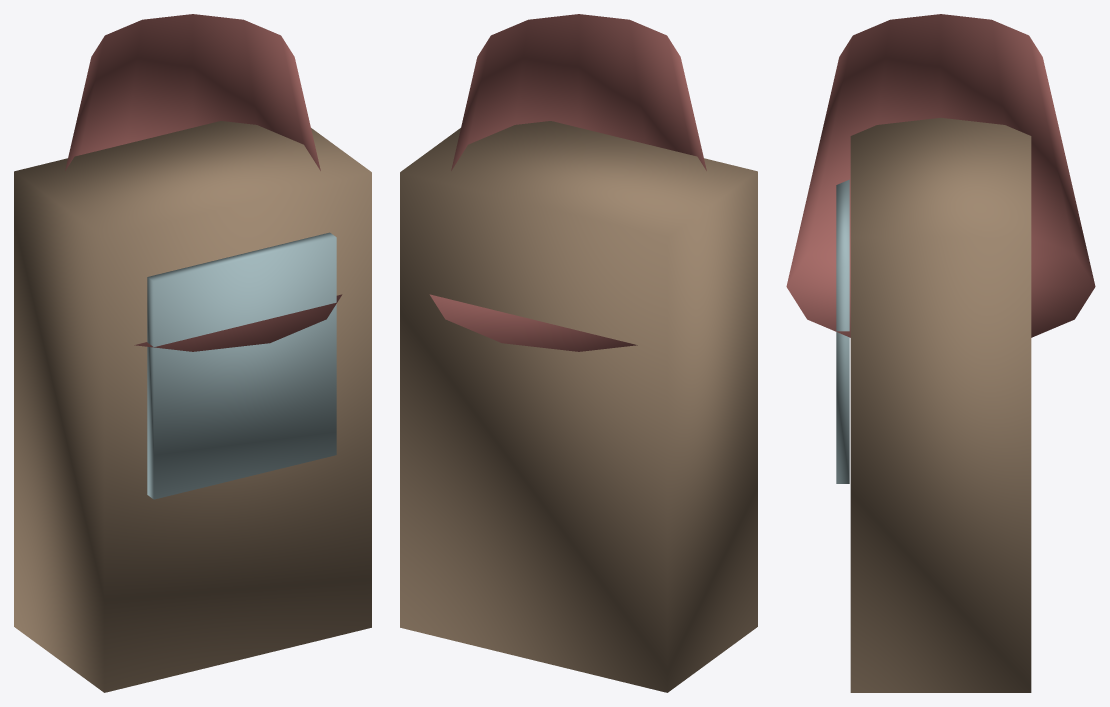
The model's file is jukebox__tall.glb.
3 renders of one model, left to right at view 1: azimuth 30°, elevation 25°; view 2: azimuth 150°, elevation 25°; view 3: azimuth 270°, elevation 25°, orthographic.
Parts seen in each view (by area): view 1: world; view 2: world; view 3: world.
Part boxes in pixels (left/top/right/bottom): world: left=14, top=14, right=371, bottom=692; world: left=400, top=14, right=757, bottom=692; world: left=786, top=14, right=1095, bottom=692.
Size of the model in its own units: 0.82 by 1.67 by 0.82.
